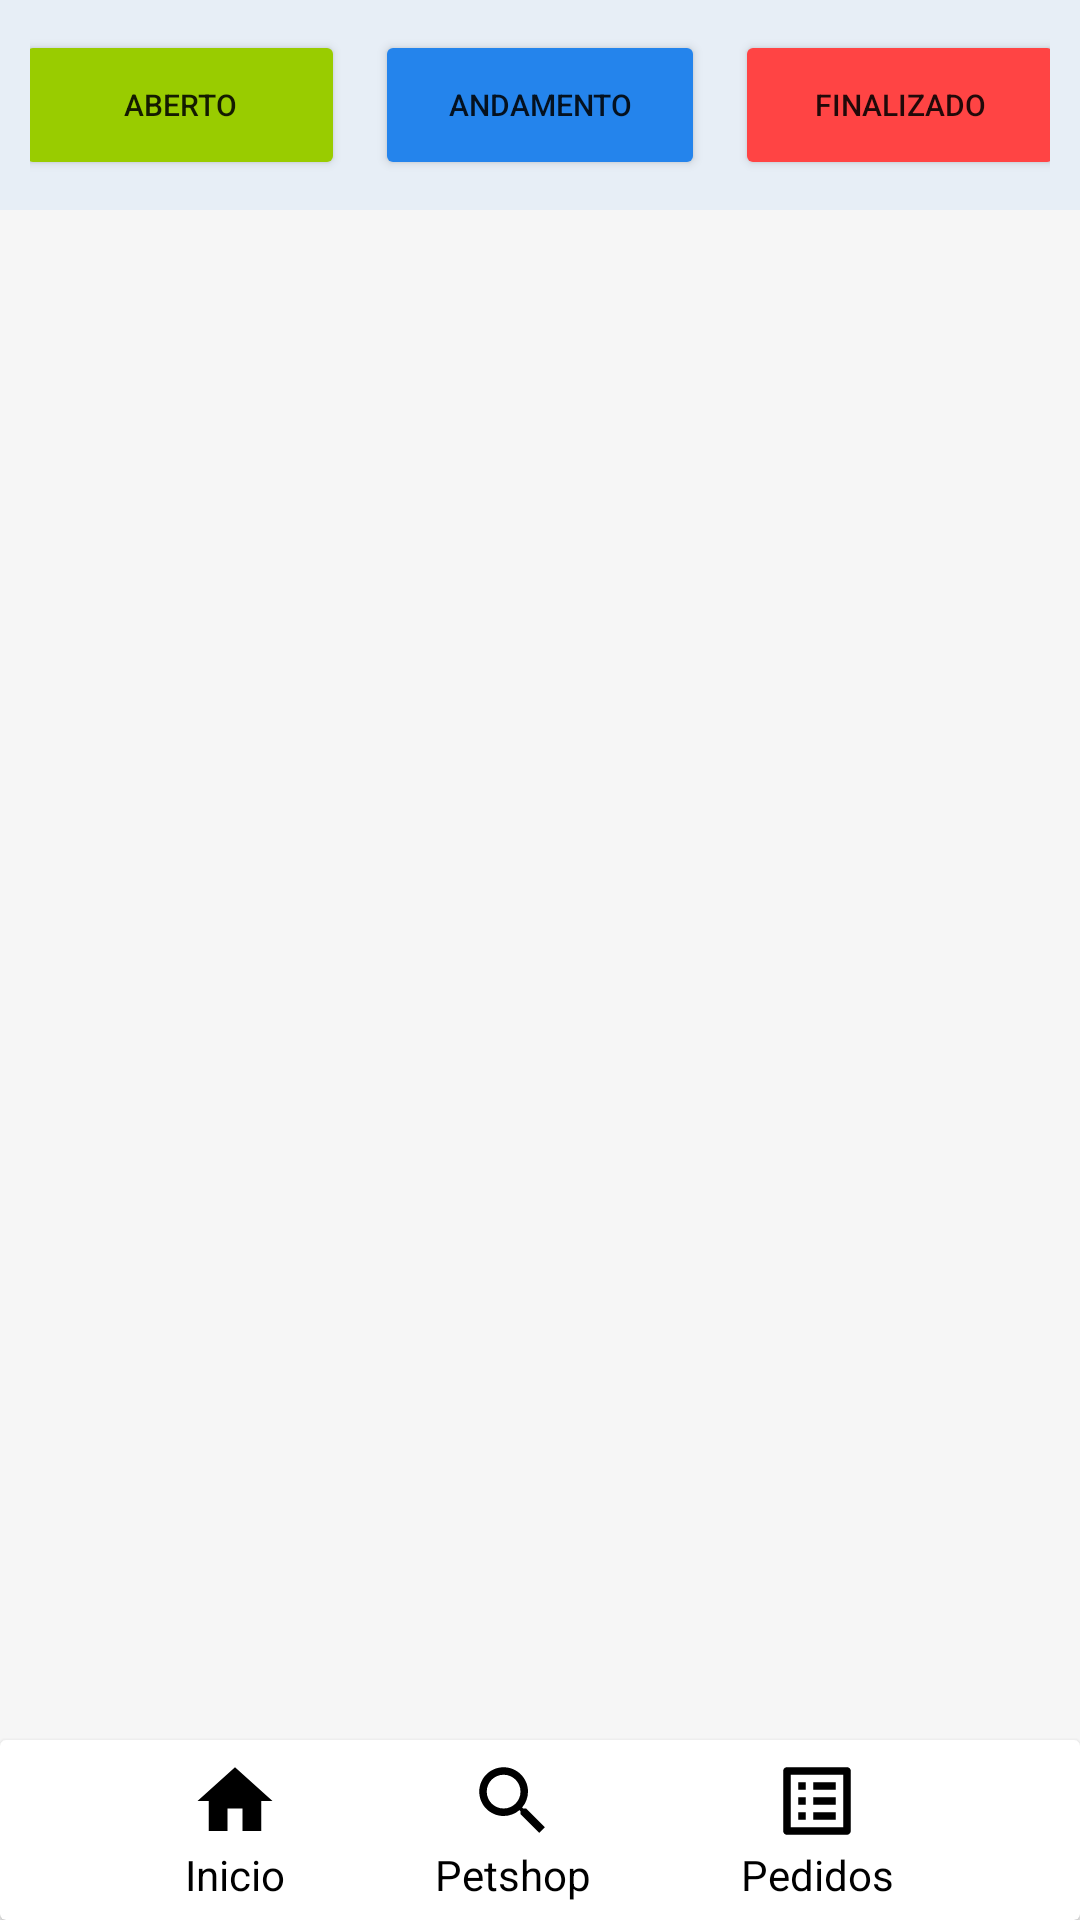

Screen size 1080 × 1920. Icon name, then its center in pixels as (x,y):
list: (817,1801)
search: (512,1800)
